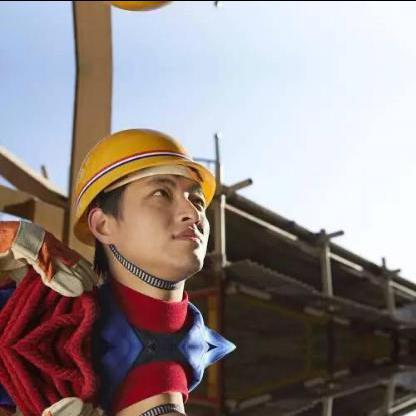Helmet: (57, 102, 227, 286)
